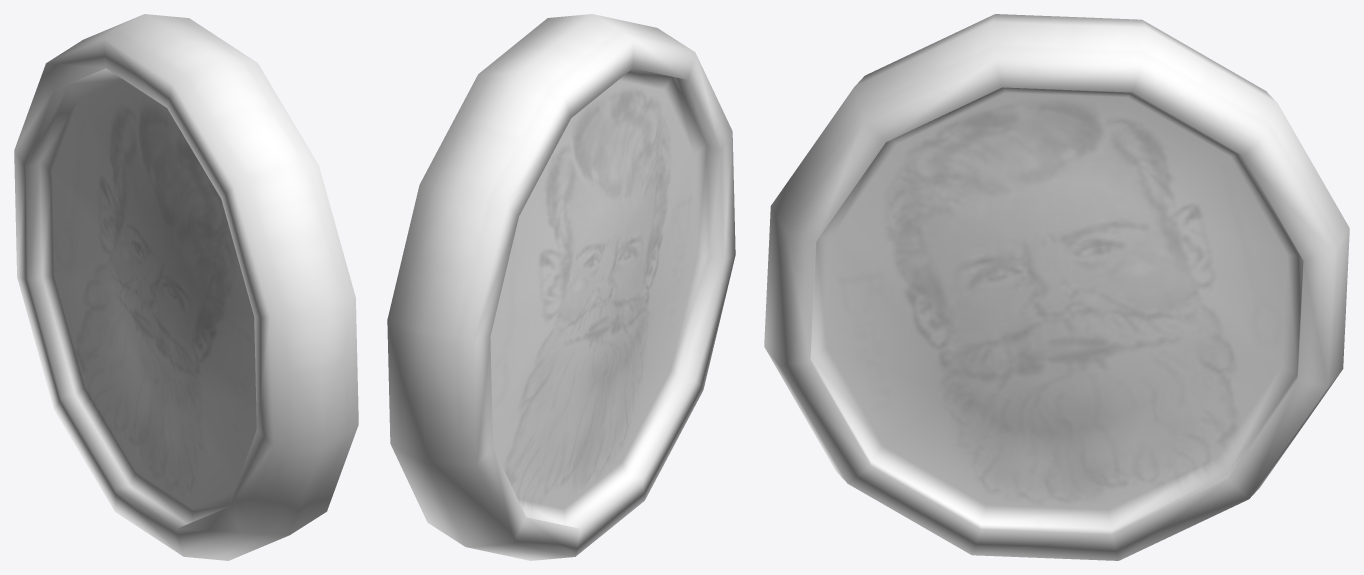
Rendered from Coin.fbx.
3 renders of one model, left to right at view 1: azimuth 30°, elevation 25°; view 2: azimuth 150°, elevation 25°; view 3: azimuth 270°, elevation 25°, orthographic. The views are drawn at different scales.
Parts seen in each view (by area): view 1: pCylinder1; view 2: pCylinder1; view 3: pCylinder1.
Boxes of the visible parts, x1,y1,x2,y2 form: pCylinder1: (14, 14, 358, 560); pCylinder1: (387, 14, 735, 560); pCylinder1: (764, 14, 1349, 560).
Size of the model in its own units: 0.1447 by 0.7621 by 0.7621.
